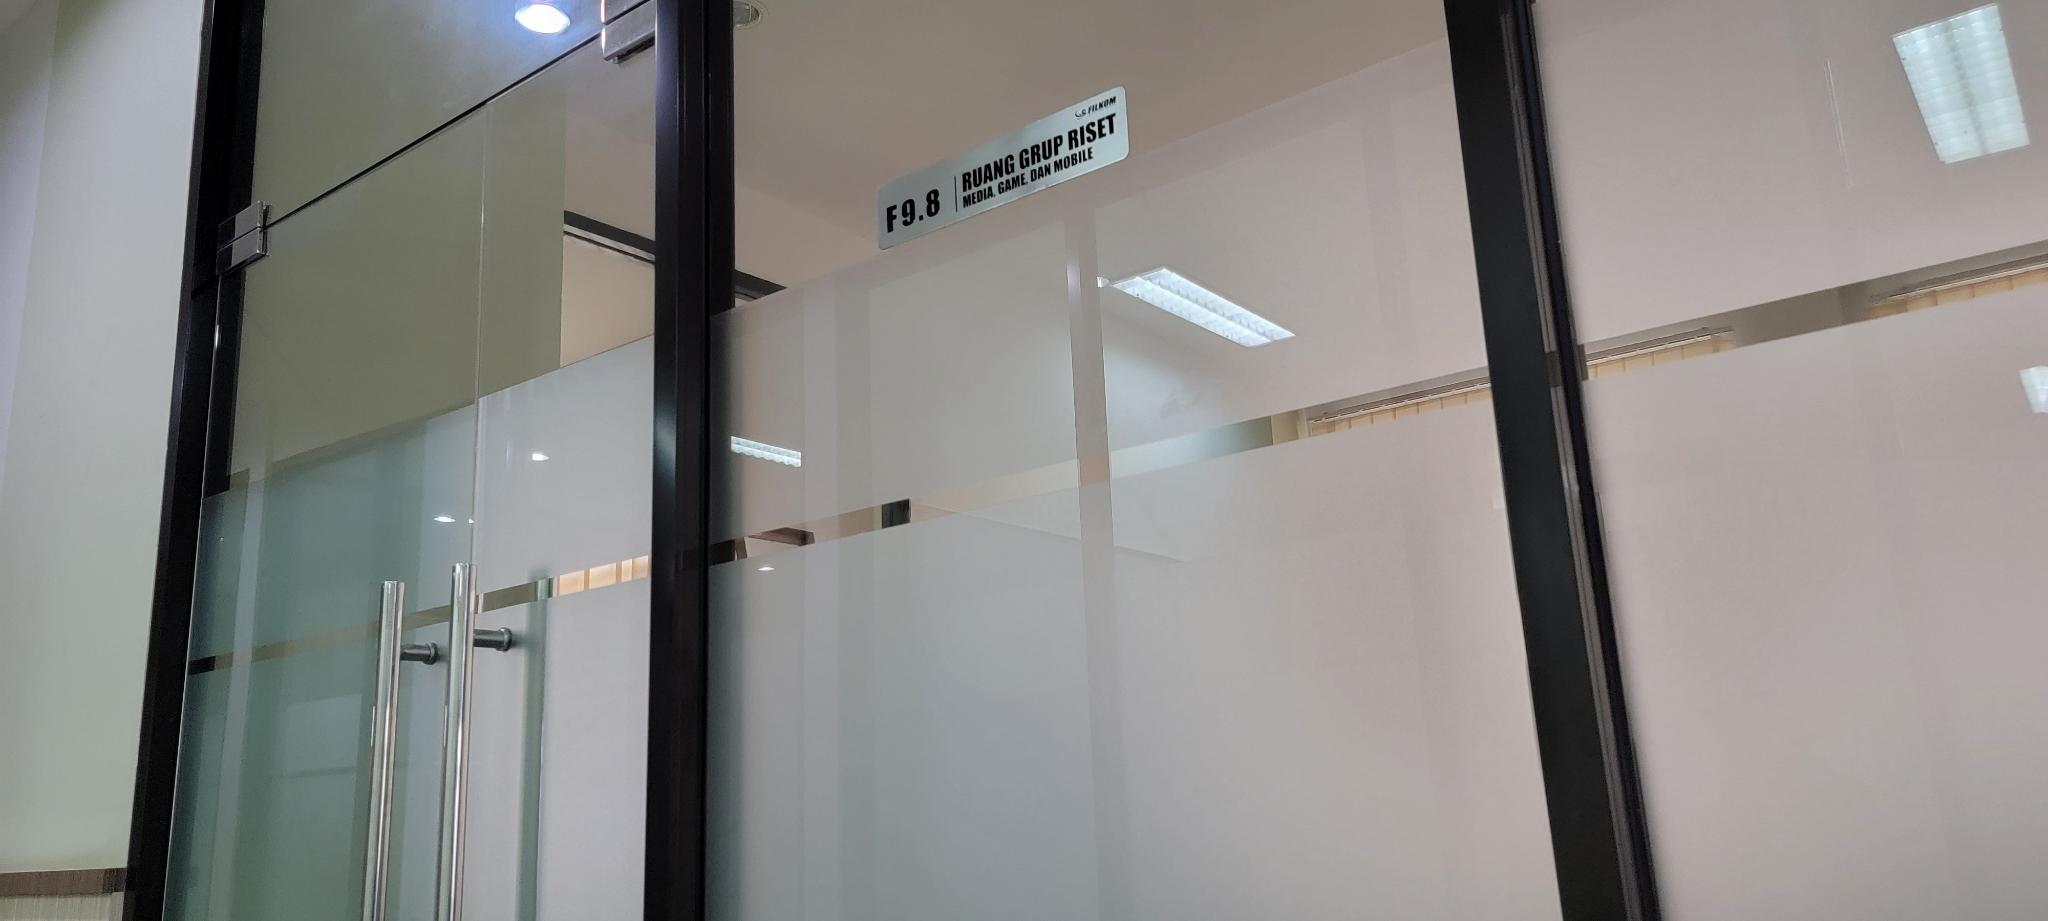plate: (872, 85, 1131, 251)
